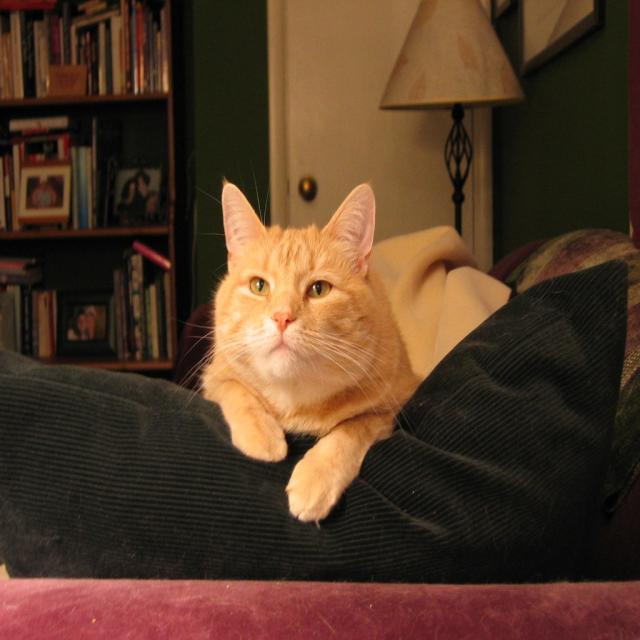Cat: (168, 173, 428, 528)
